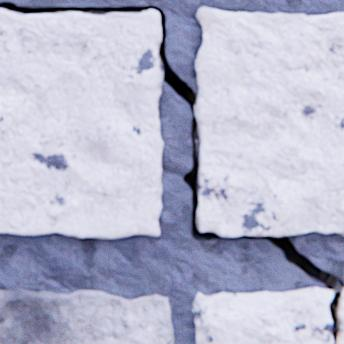brick: (0, 10, 163, 237), (195, 7, 343, 235), (0, 288, 173, 343)
broken_brick: (193, 286, 332, 343), (335, 287, 343, 343)
crack: (0, 1, 343, 343)
